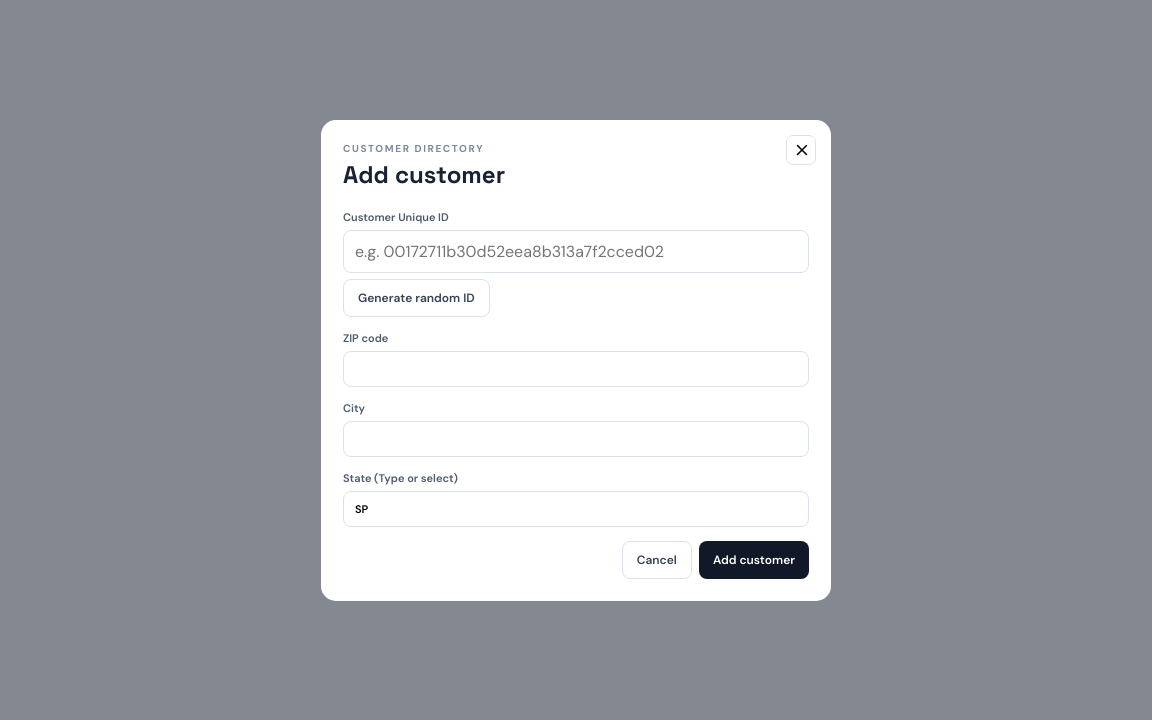
Scenario: CustomerModal Component › shows an error when random ID generation fails
The image size is (1152, 720).
Click the button "Generate random ID".
click(416, 298)  # box [343,278,490,316]
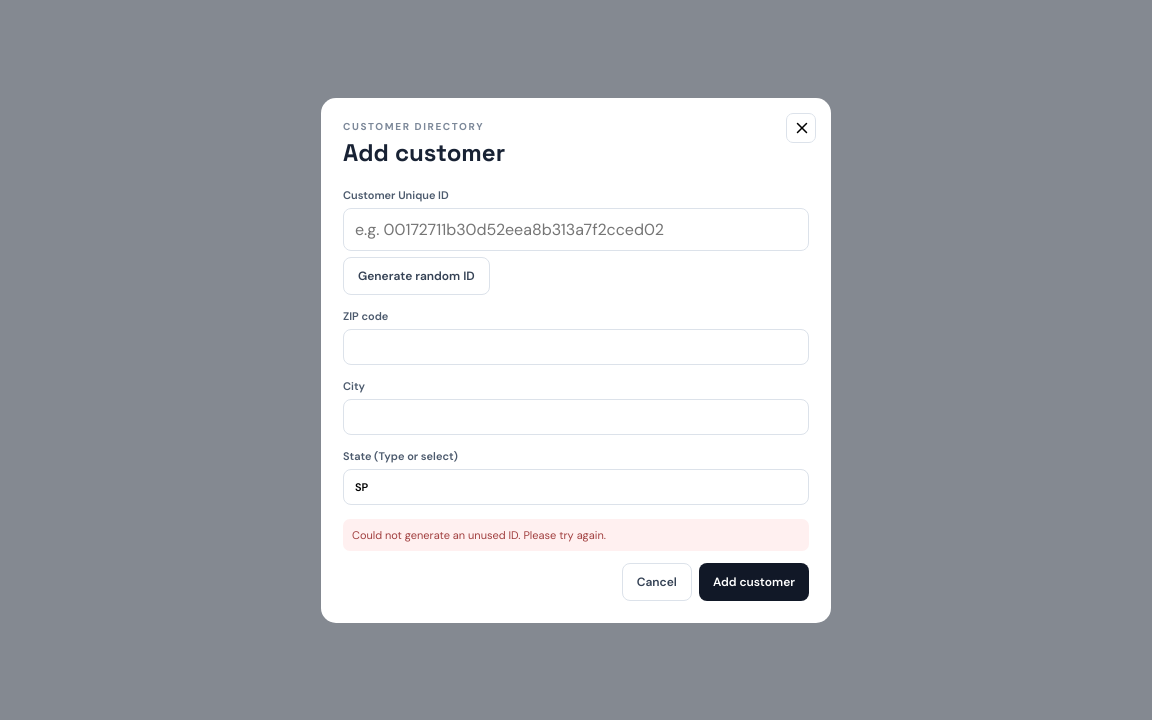
Now the text "Could not generate an unused ID. Please try again." is shown, box [343,518,809,550]
